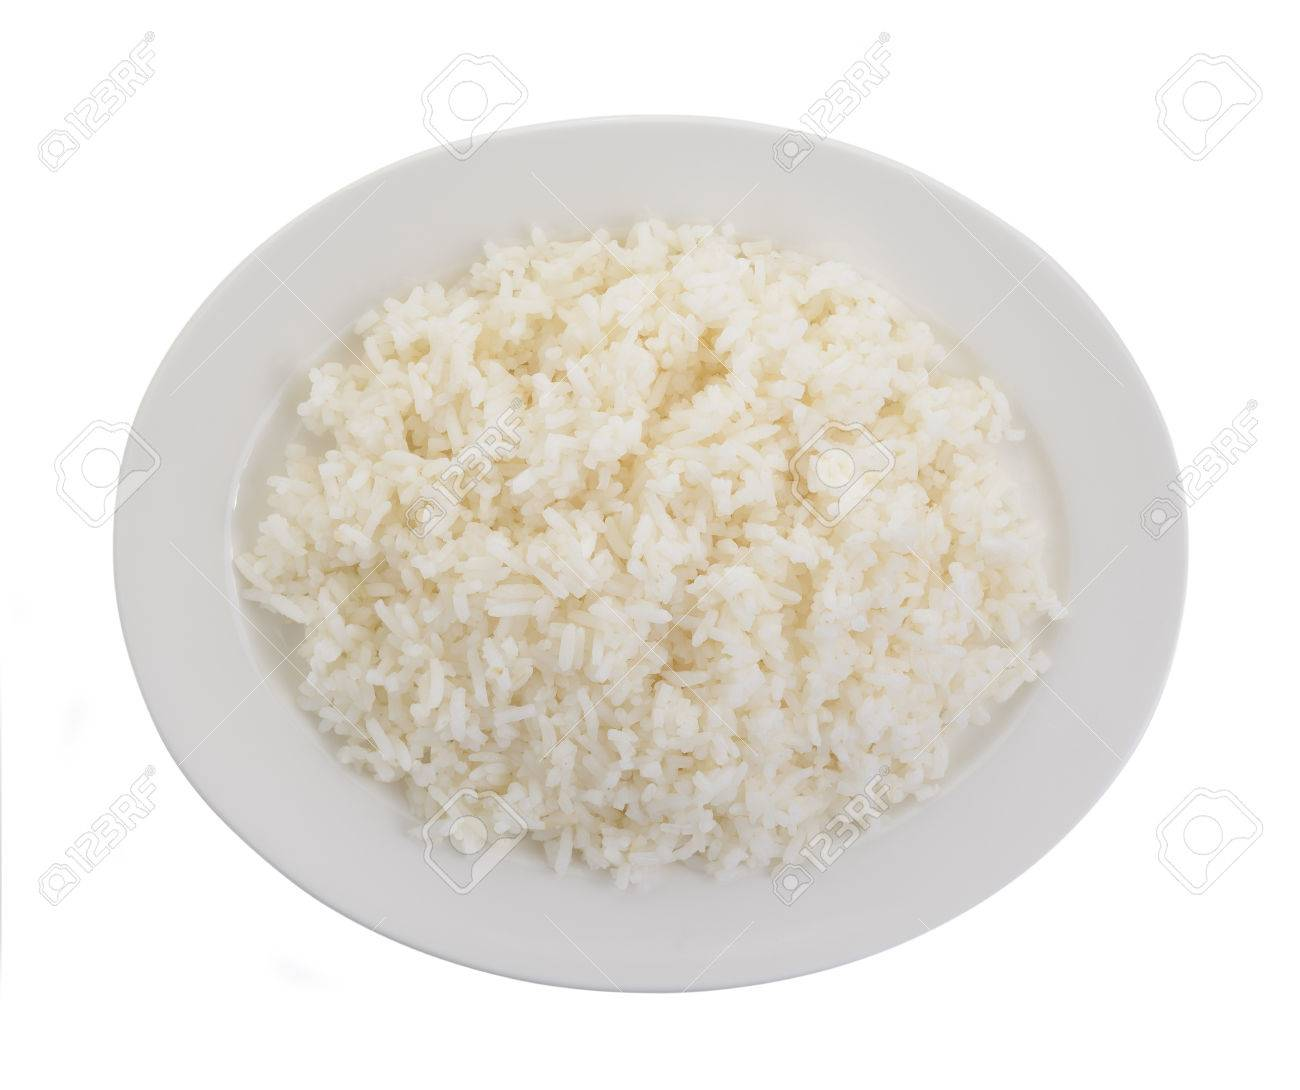rice: (256, 232, 1107, 870)
